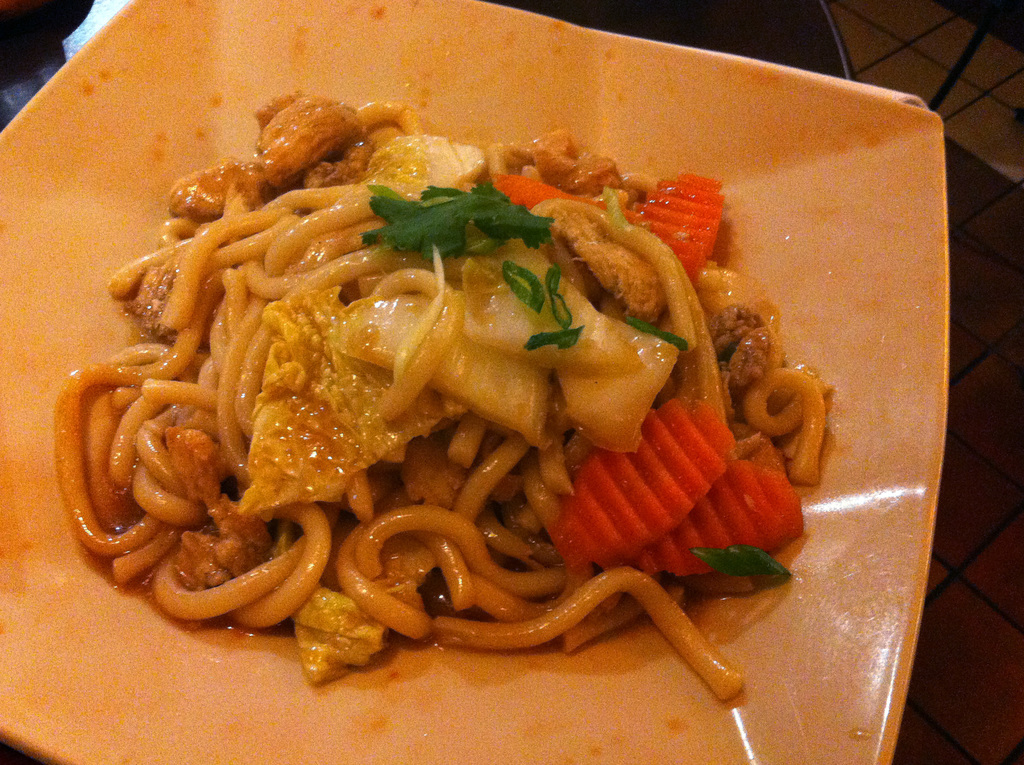pasta: (146, 161, 751, 663)
